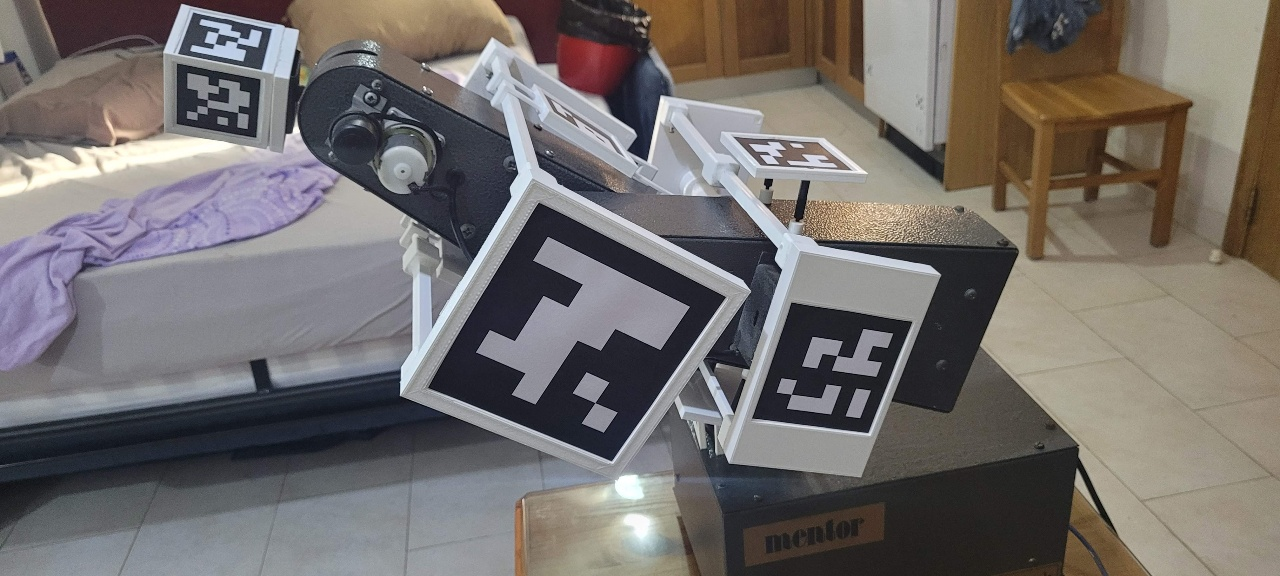Robot: (160, 3, 1021, 482)
